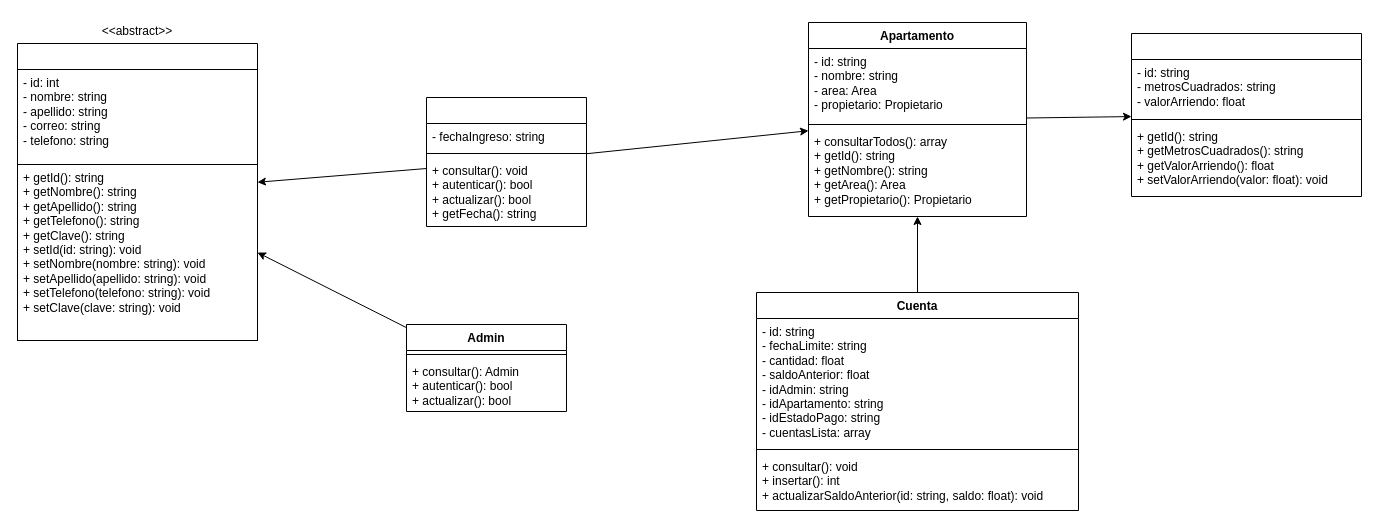
Image size: 1379x530. Some labels were removed from this diagram. Here are the shapes that lost their labels. From the top down, the box of each, then its label:
(1130, 32, 1362, 196): Area
(426, 96, 586, 226): Propietario
(16, 42, 258, 340): Persona
